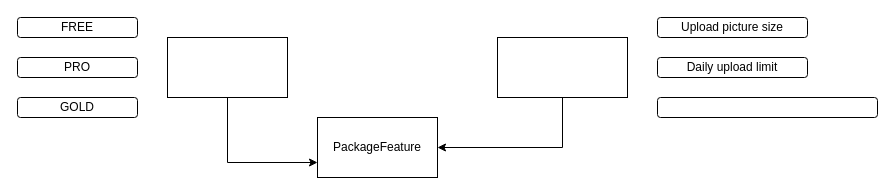
The diagram is 895 pixels wide and 195 high, and some of its shapes have lost their labels. The shapes that lost their labels are listed below. From the top down, each one's centre as x and y in pixels, then its label:
At point (227, 67): "Package".
At point (562, 67): "PackageFeatureType".
At point (767, 107): "Maximum spend of uploaded photos".
